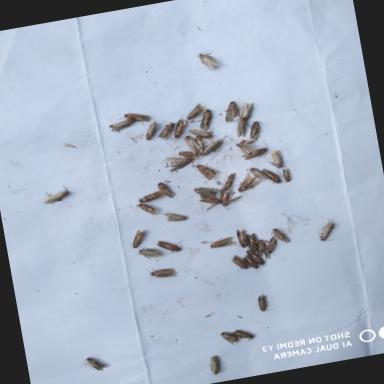pbw: (72, 349, 112, 382), (184, 152, 222, 186), (161, 145, 207, 172), (152, 116, 192, 144), (188, 44, 225, 74), (312, 214, 346, 246), (139, 117, 177, 145), (216, 96, 248, 125), (142, 262, 180, 286), (199, 132, 233, 158), (188, 178, 228, 200), (239, 142, 277, 164), (132, 194, 164, 220), (228, 323, 264, 346), (234, 171, 267, 196), (39, 183, 72, 208), (232, 133, 266, 157), (243, 112, 268, 144), (200, 350, 226, 380), (133, 186, 171, 206), (215, 170, 244, 196), (214, 184, 243, 210), (193, 105, 219, 133), (153, 177, 180, 203), (264, 146, 289, 174), (267, 222, 296, 246), (134, 242, 165, 264), (230, 112, 256, 138), (245, 160, 273, 184), (251, 288, 275, 316), (123, 106, 153, 128), (159, 206, 192, 226), (194, 190, 224, 212), (234, 98, 260, 123), (229, 250, 254, 274), (218, 326, 243, 350), (245, 246, 270, 269), (182, 99, 208, 121), (154, 236, 184, 255), (127, 227, 150, 250), (260, 164, 284, 186), (207, 233, 238, 250), (186, 124, 214, 142), (183, 132, 204, 155), (108, 117, 137, 133), (233, 226, 251, 250), (255, 237, 272, 262), (264, 234, 281, 258), (240, 252, 260, 272), (244, 231, 260, 254), (276, 166, 296, 184), (194, 133, 213, 148)
